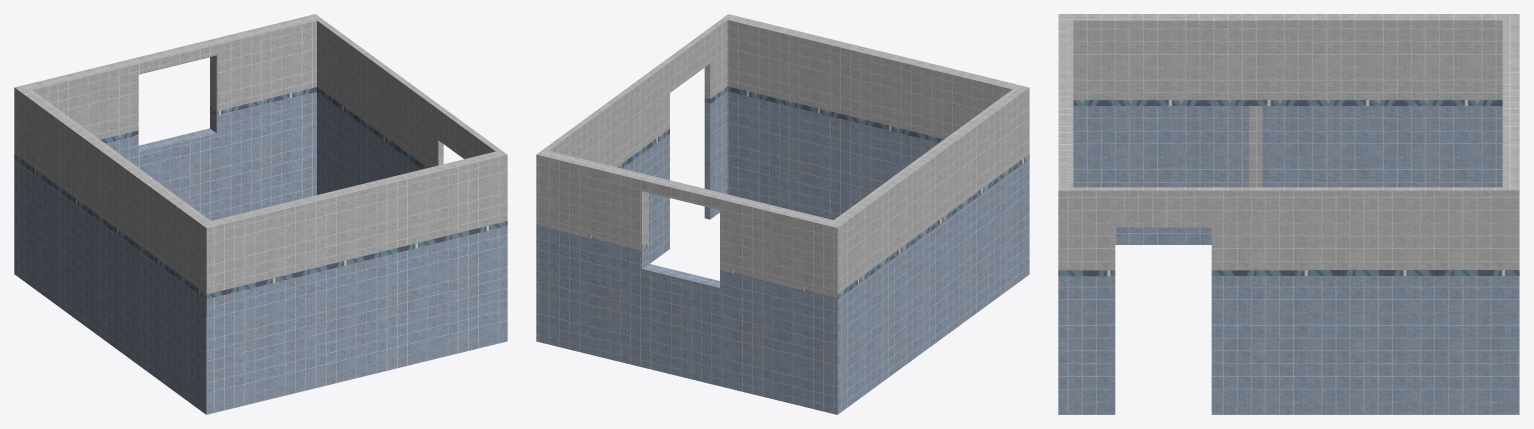
The model's file is Walls_3fca9bbc.obj.
The picture shows the model from 3 angles, left to right: view 1: azimuth 30°, elevation 25°; view 2: azimuth 150°, elevation 25°; view 3: azimuth 270°, elevation 25°; orthographic projection. The views are drawn at different scales.
Parts seen in each view (by area): view 1: Walls_3fca9bbc; view 2: Walls_3fca9bbc; view 3: Walls_3fca9bbc.
Part boxes in pixels (x1,y1,x2,y2): Walls_3fca9bbc: (14, 14, 507, 414); Walls_3fca9bbc: (536, 14, 1029, 414); Walls_3fca9bbc: (1058, 14, 1519, 414).
Size of the model in its own units: 4.23 by 2.51 by 4.68.
